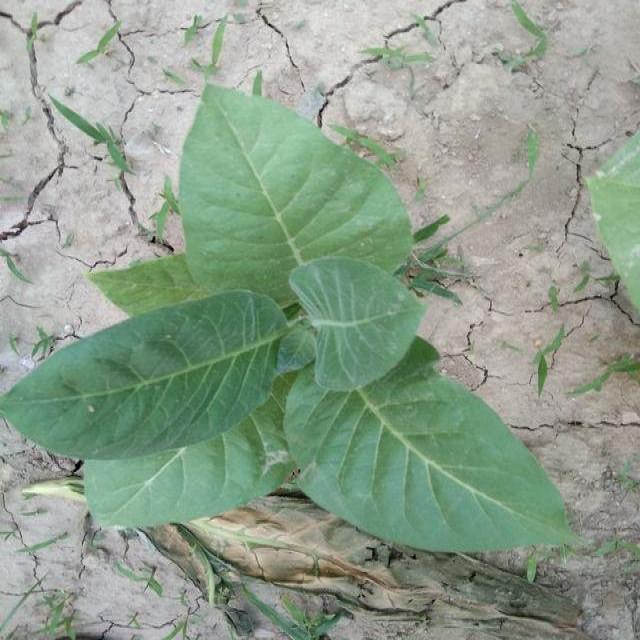crop: (3, 74, 580, 566)
